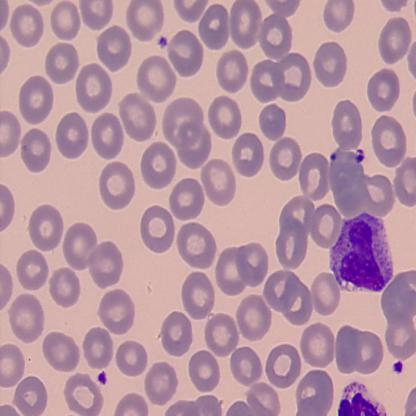Metamyelocyte: (328, 211, 396, 298)
